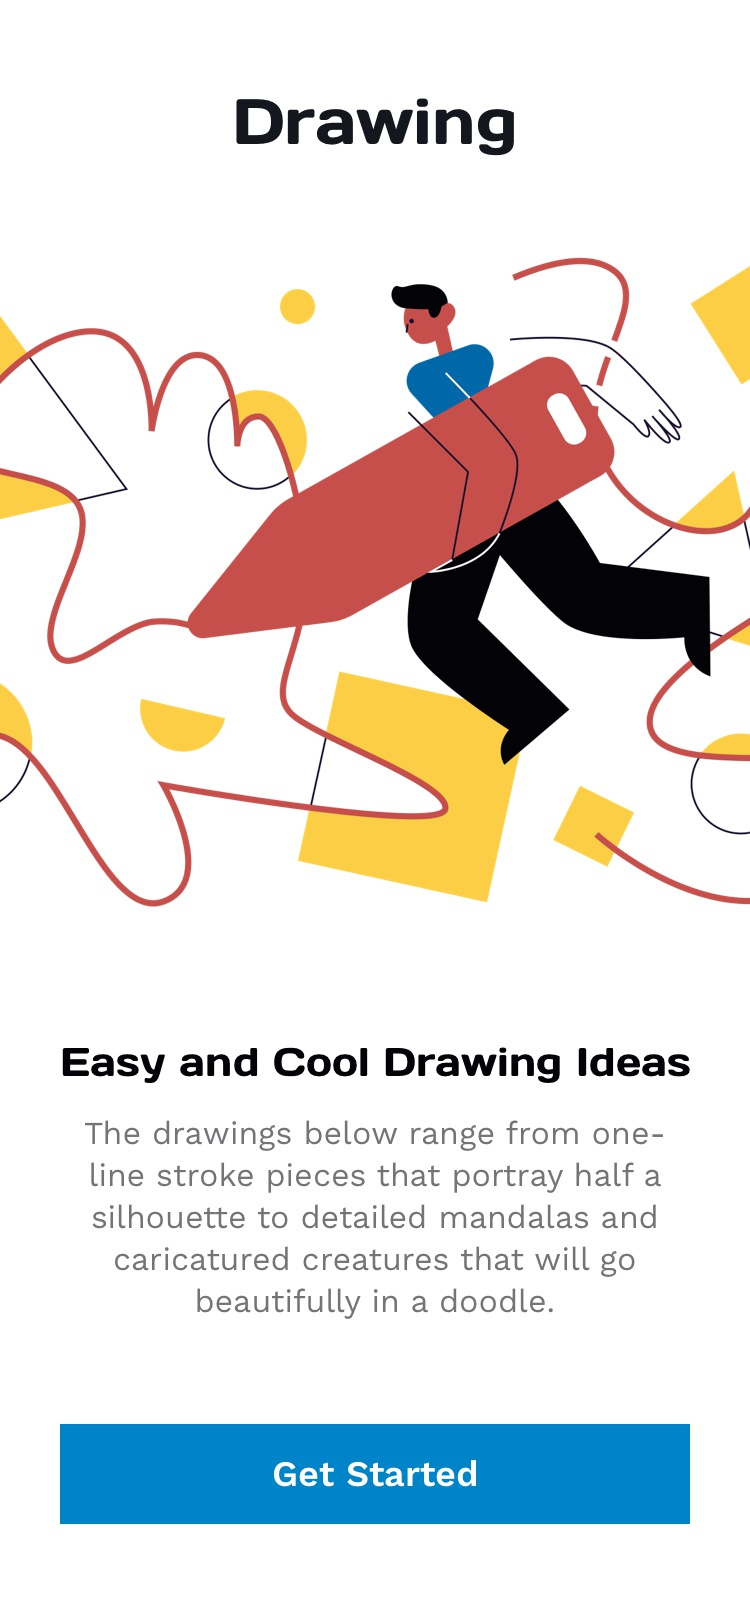Image: (1, 257, 750, 908)
Text: (85, 1119, 664, 1320), (63, 1047, 691, 1084), (236, 98, 515, 157)
TextButton: (61, 1424, 691, 1525)
